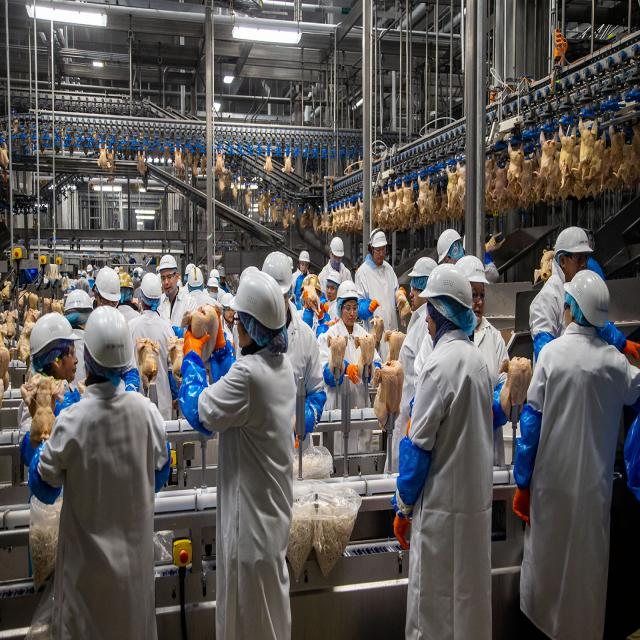Safety-Helmet: (232, 262, 288, 332), (82, 306, 133, 367), (564, 267, 610, 325), (26, 310, 80, 355), (421, 260, 472, 303), (260, 248, 294, 292), (552, 222, 593, 256), (458, 251, 490, 284), (434, 226, 464, 258), (95, 263, 120, 299), (141, 270, 161, 299), (337, 276, 359, 302), (157, 252, 178, 273), (369, 225, 388, 248), (330, 234, 344, 256), (119, 271, 133, 287), (298, 249, 310, 261), (12, 247, 22, 259), (40, 254, 47, 263)
